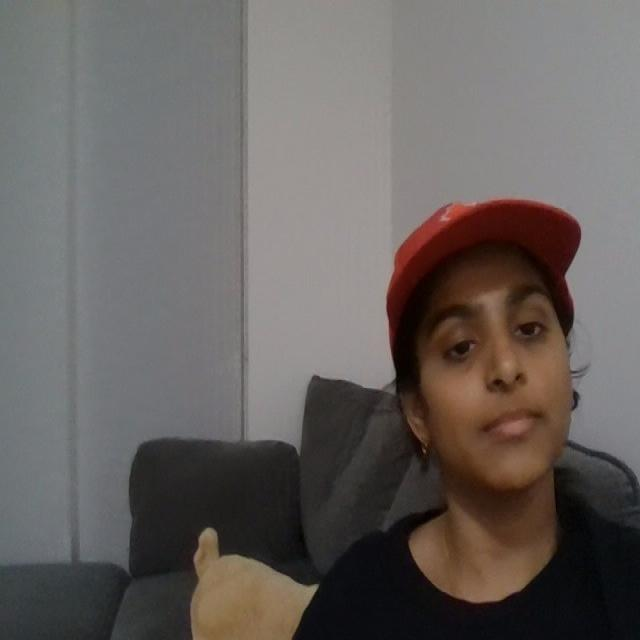Hat: (366, 190, 595, 302)
